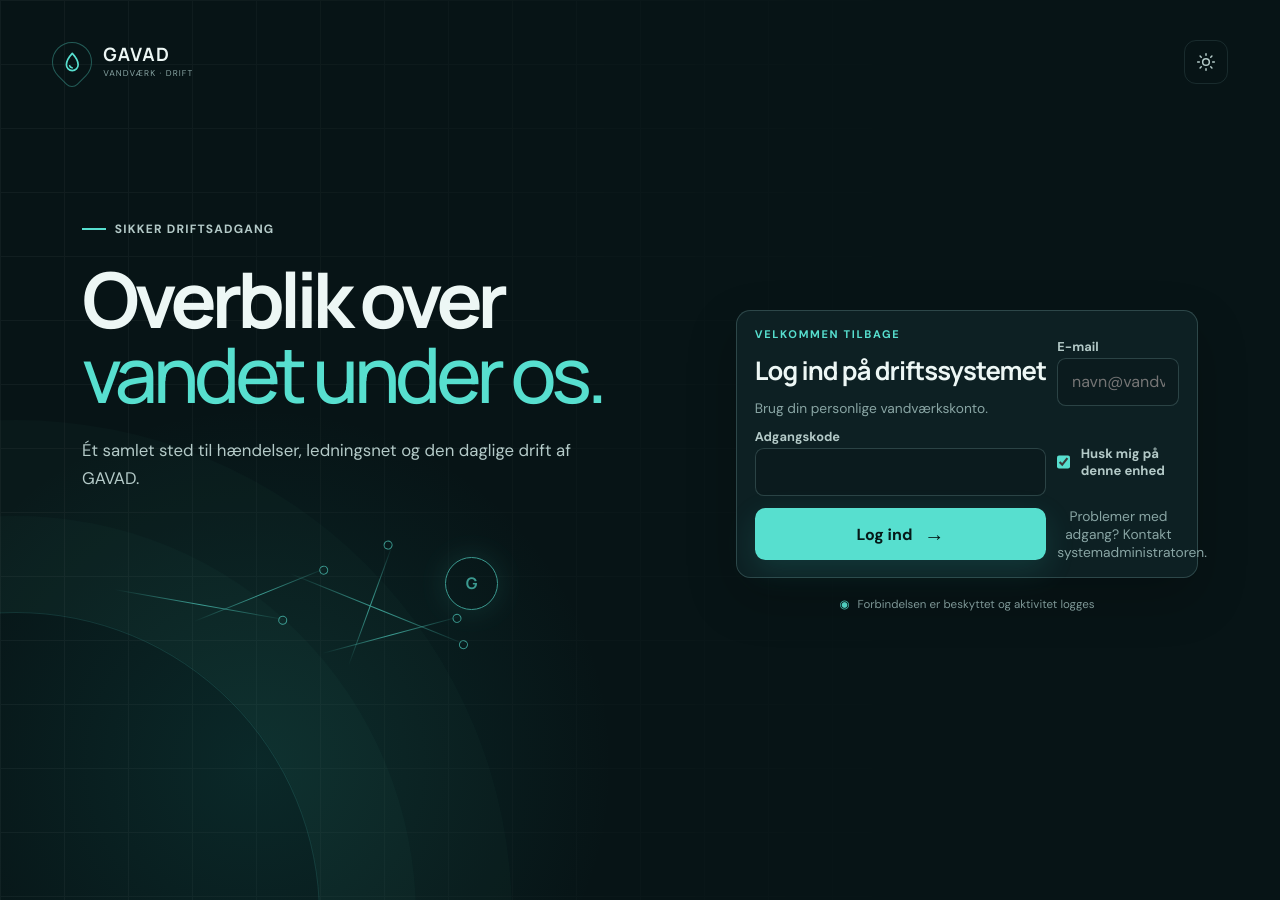
Test case: viser en tilgængelig fejl ved afvist login
Type "forkert@gavad.dk" into the field labelled "E-mail". click: (1118, 382)
box: [1057,358,1179,406]
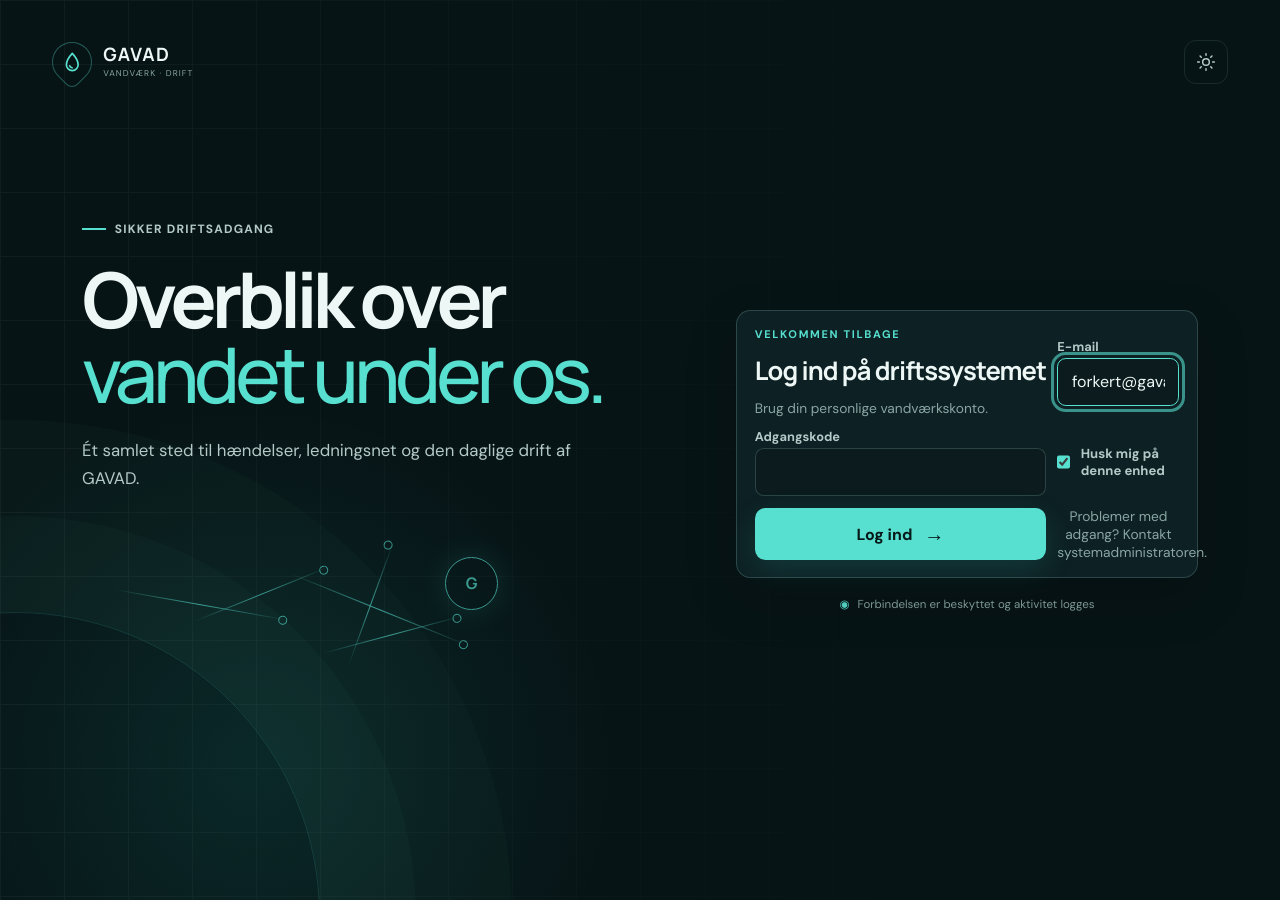
Type "forkert" into the password field labelled "Adgangskode". click: (900, 472)
box: [755,448,1046,496]
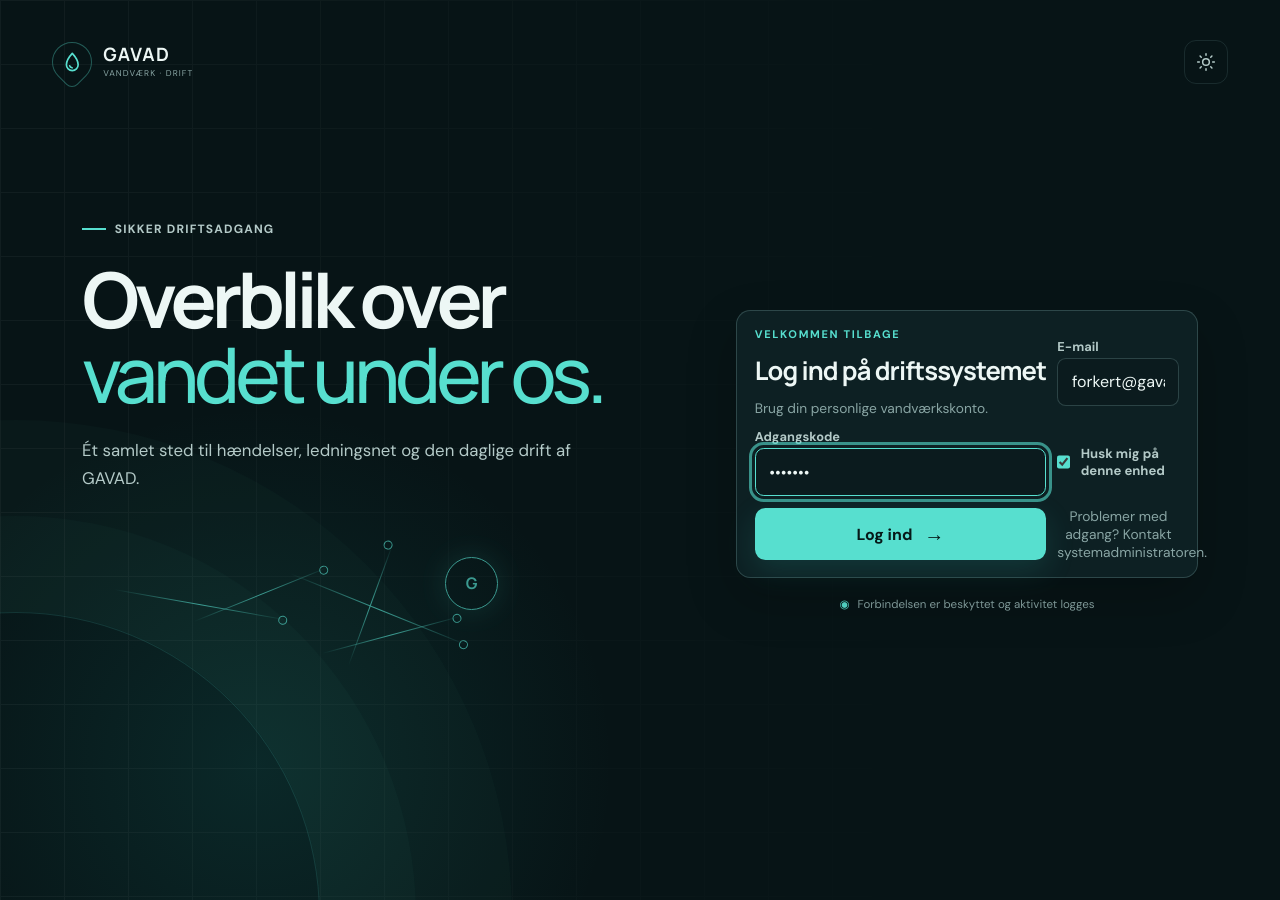
Click the button "Log ind →". click: (900, 534)
box: [755,508,1046,560]
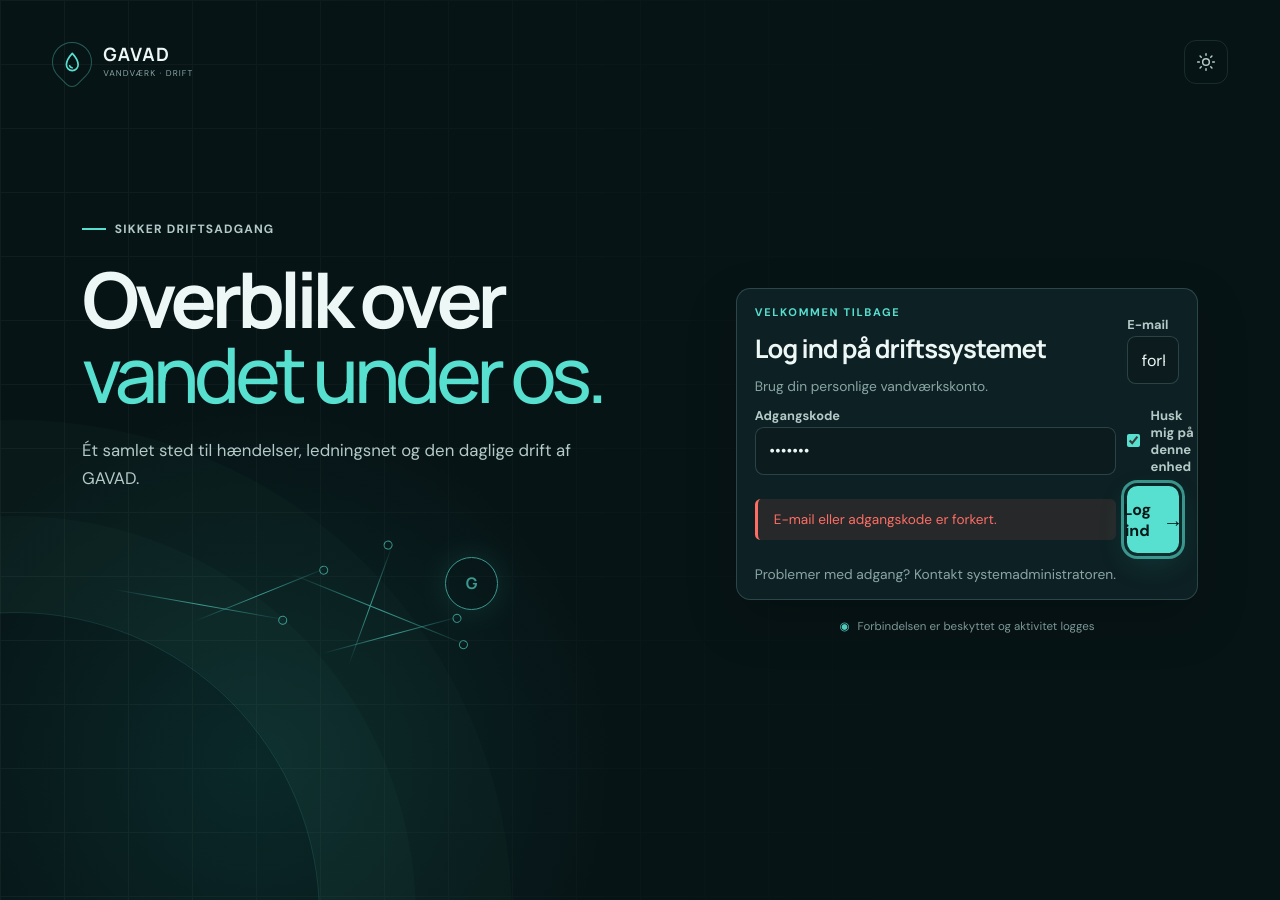
Check: the message shows "E-mail eller adgangskode er forkert", box [774,511,997,528]
